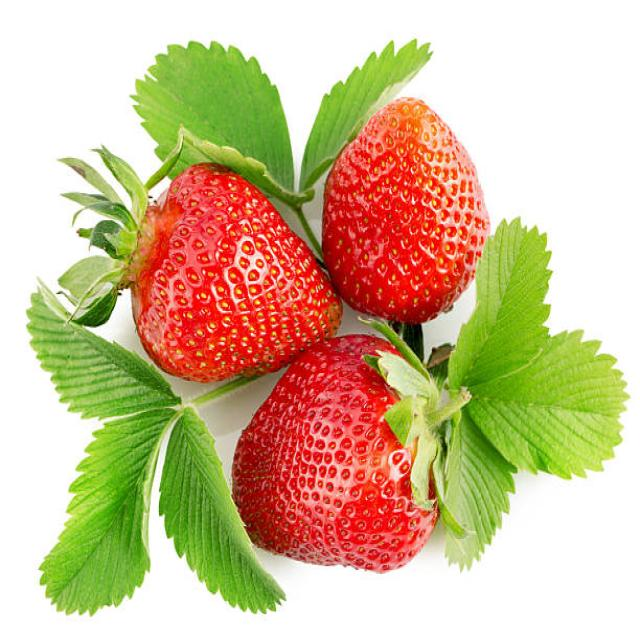Healthy Fruit: (231, 334, 441, 574), (129, 160, 340, 380), (320, 97, 489, 324)
